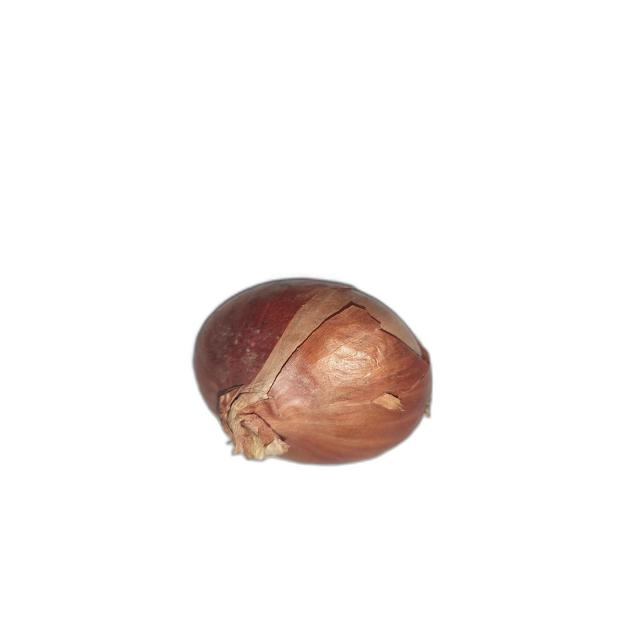onion: (192, 278, 434, 467)
